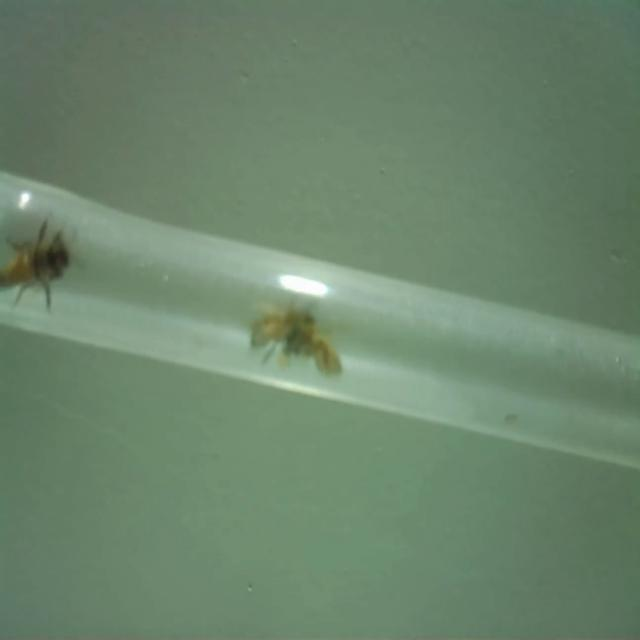Honeybee-Detection: (0, 216, 84, 313), (251, 307, 341, 375)
